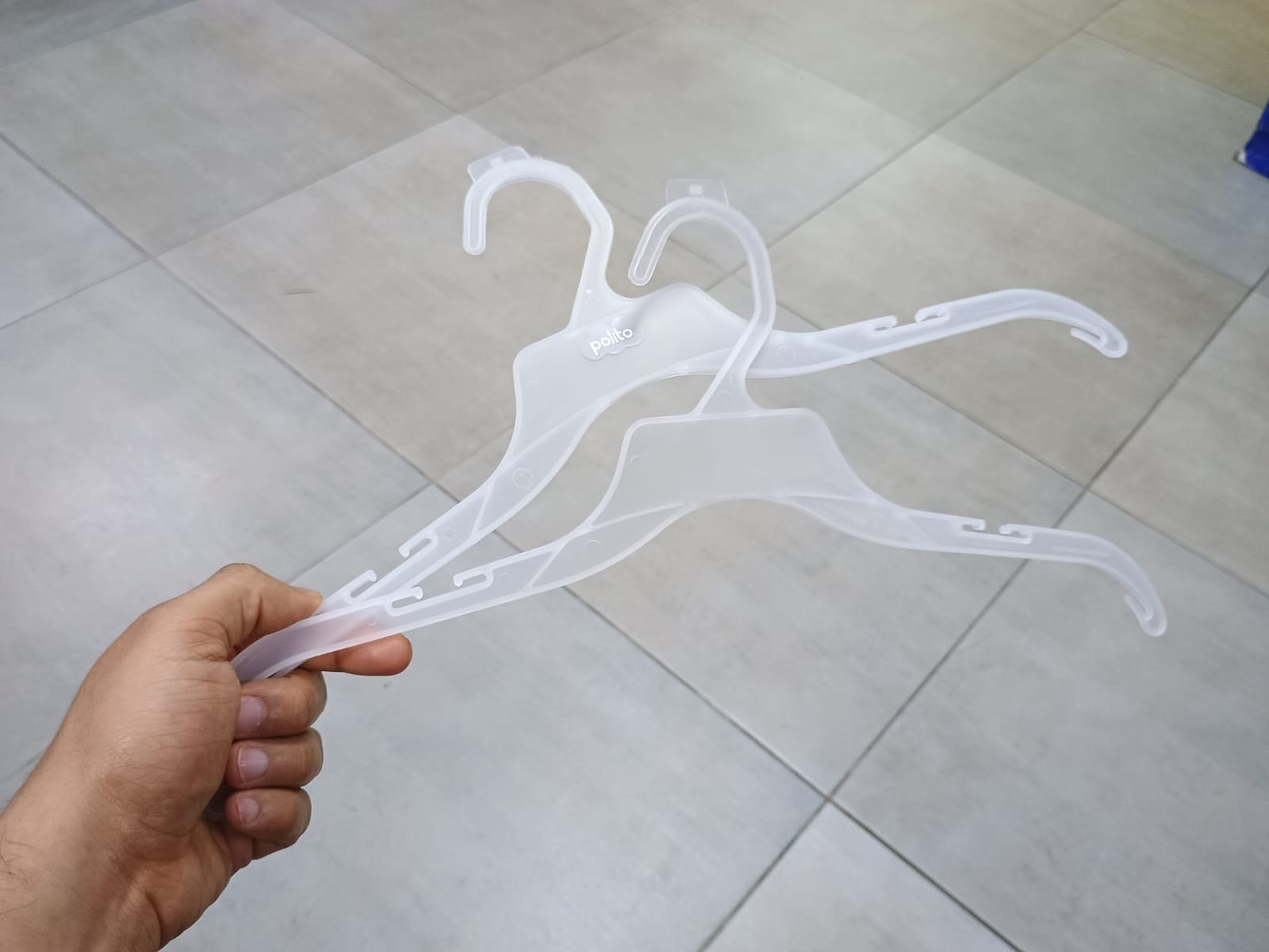Plastico: (231, 146, 1169, 678)
